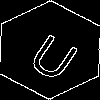U: (25, 25, 87, 84)
